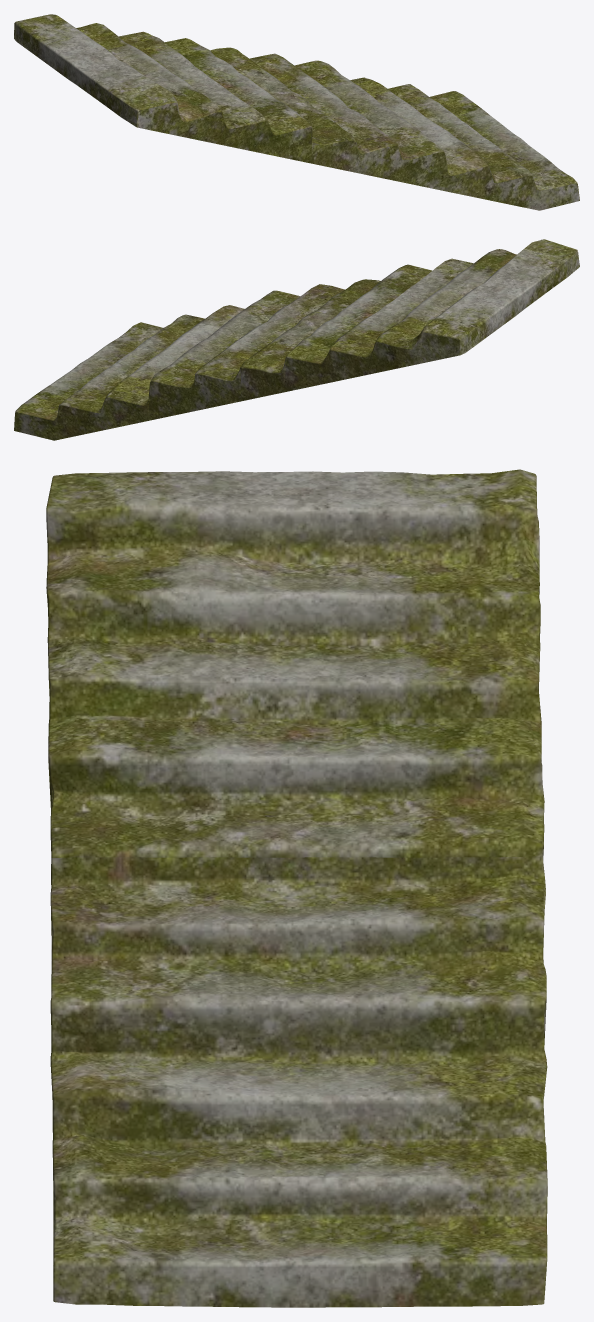
File: steps.glb
3 renders of one model, top to bottom at view 1: azimuth 30°, elevation 25°; view 2: azimuth 150°, elevation 25°; view 3: azimuth 270°, elevation 25°, orthographic. The views are drawn at different scales.
Visible parts, largest first — view 1: Object_2; view 2: Object_2; view 3: Object_2.
Part boxes in pixels (x1,y1,x2,y2): Object_2: (14, 14, 579, 210); Object_2: (14, 239, 579, 440); Object_2: (46, 469, 547, 1307).
Bounding box in the file's own units: 3.14 × 1.37 × 1.52.
Materials: 1 (1 with a texture image).
